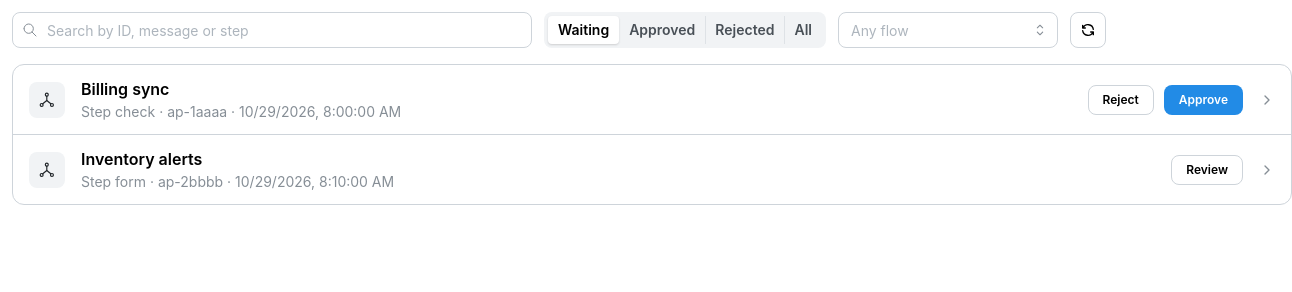
approvals › shows decided ones with who decided, under All
Expected: the text "Billing sync" is shown, [81, 79, 169, 99]
Click the text "All".
click(803, 30)  # box [794, 21, 812, 38]
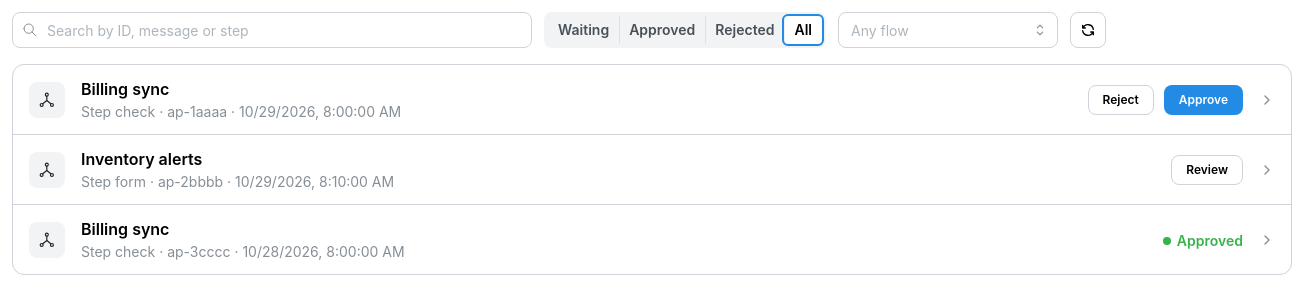
Result: the number of list items is 3 at [13, 65, 1291, 134]; [13, 134, 1291, 204]; [13, 204, 1291, 274]
Result: the 2nd text "Approved" is shown at [1163, 230, 1243, 252]
